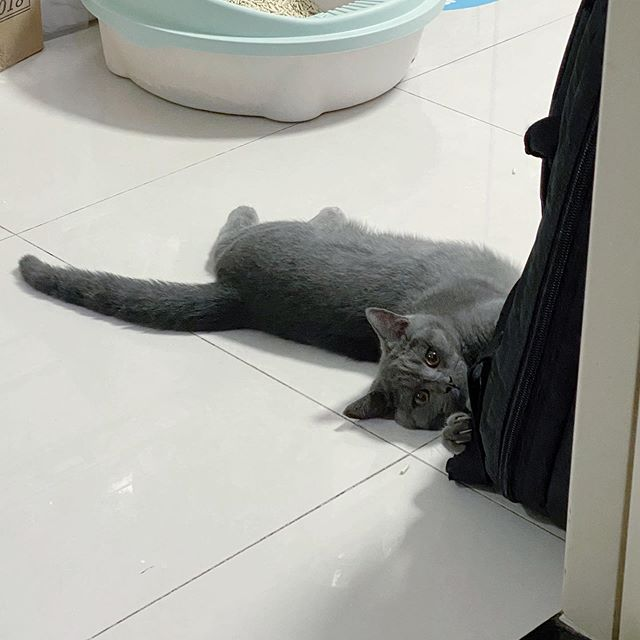cat: (342, 302, 474, 434)
